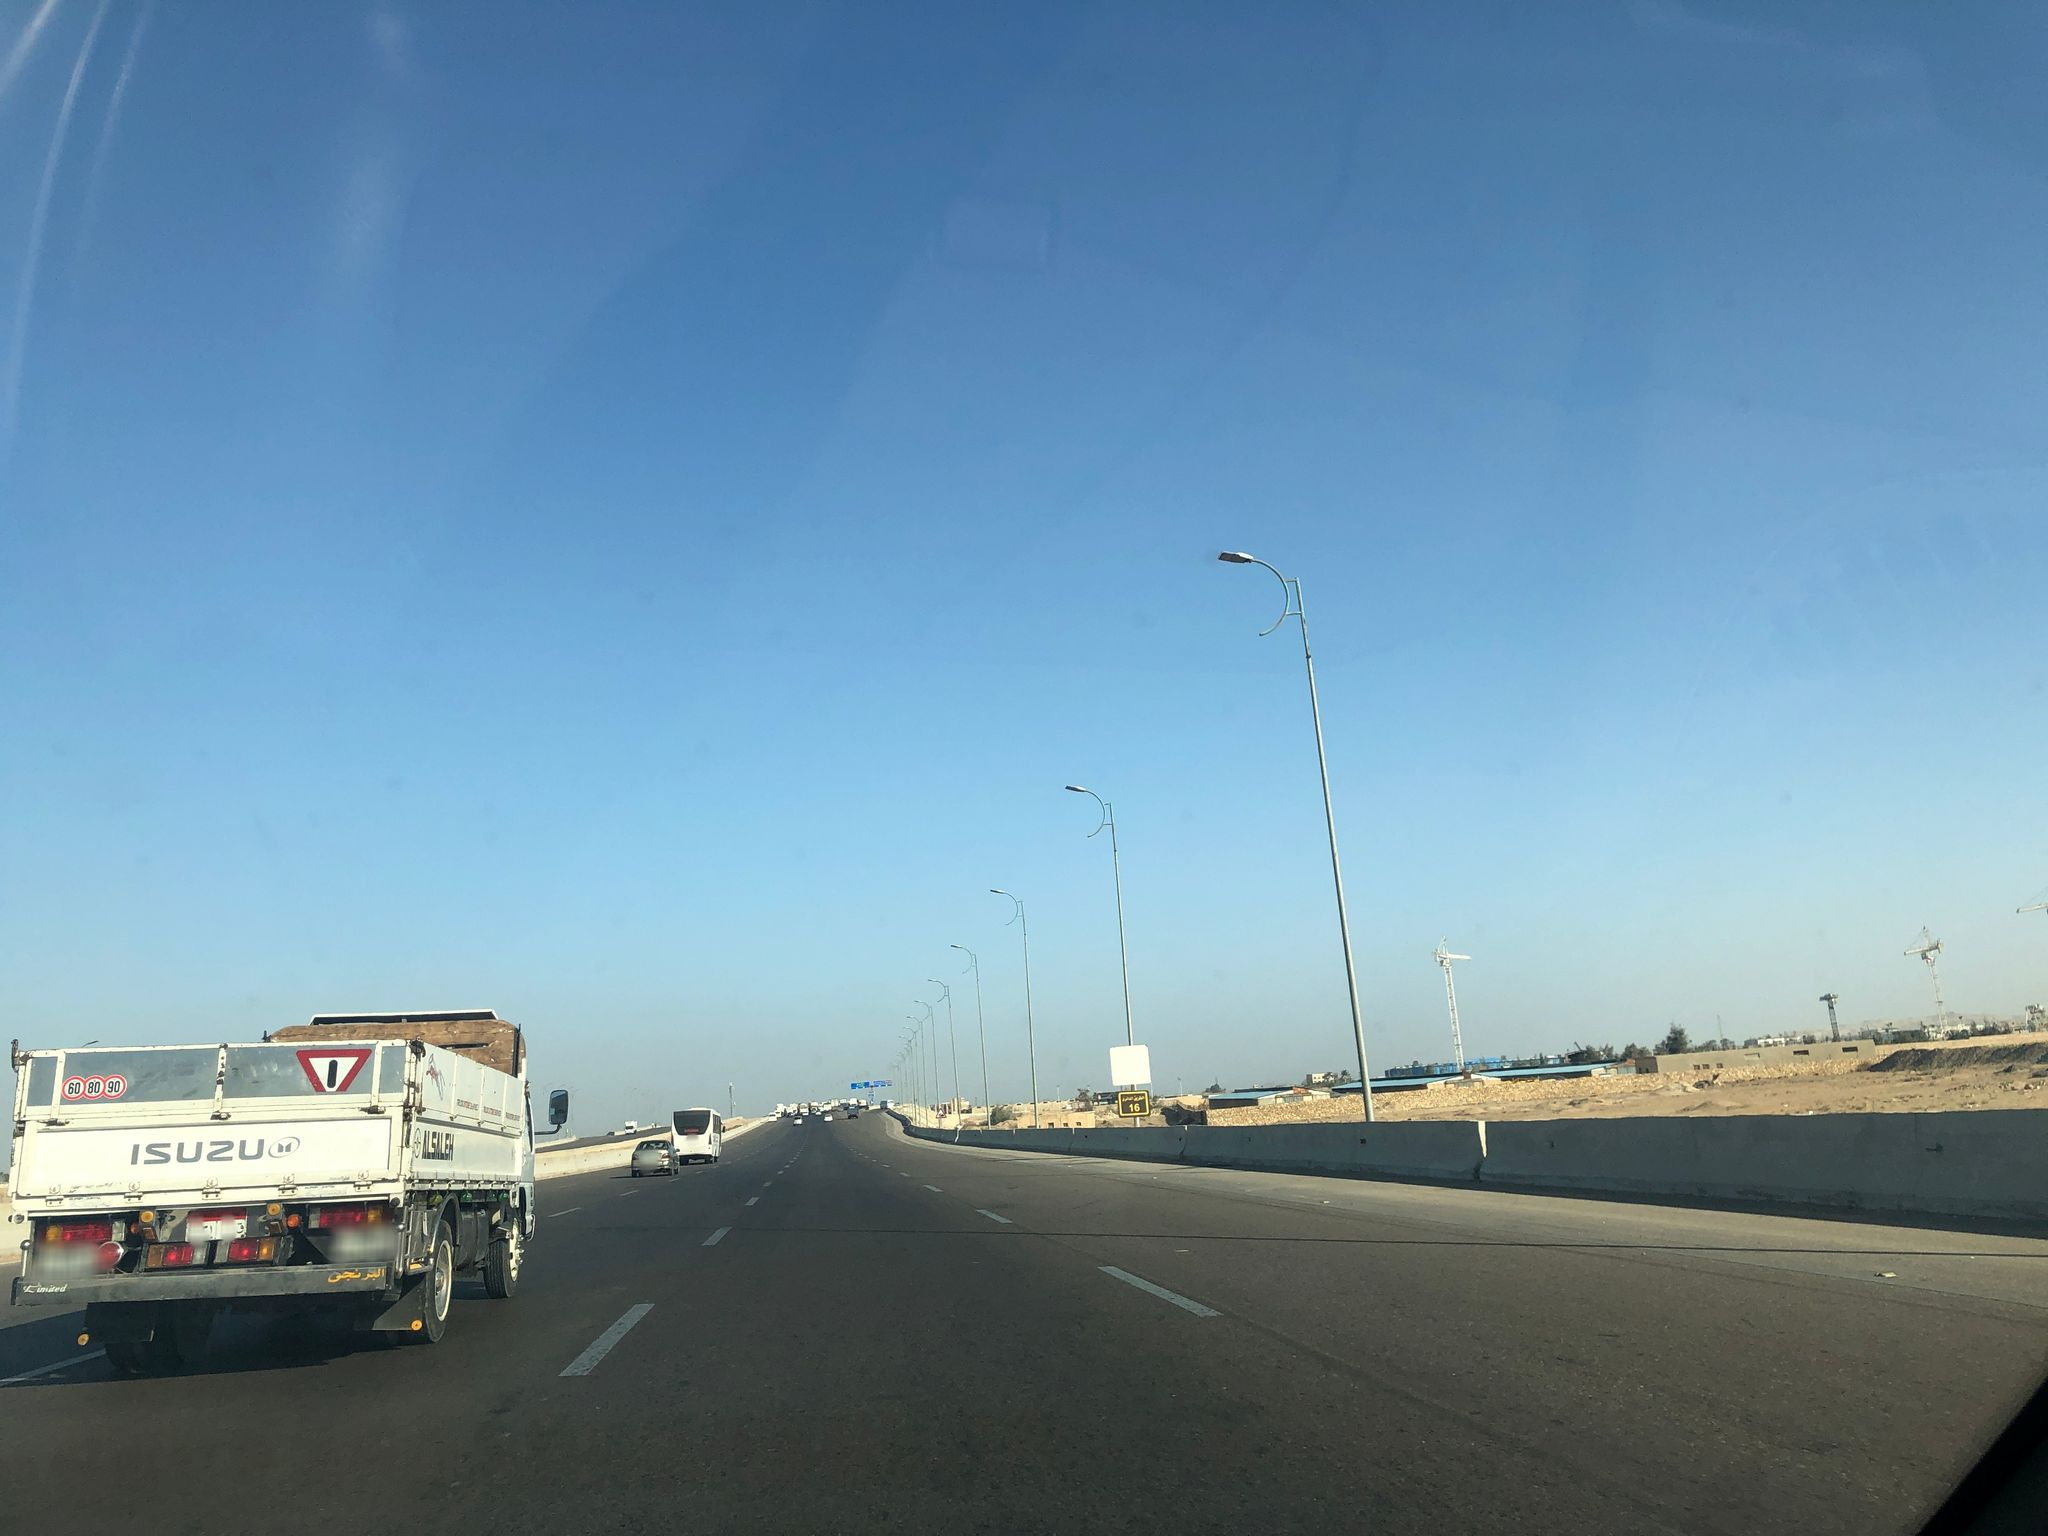bus: (669, 1105, 726, 1163)
car: (629, 1139, 681, 1176)
truck: (0, 1005, 569, 1368)
